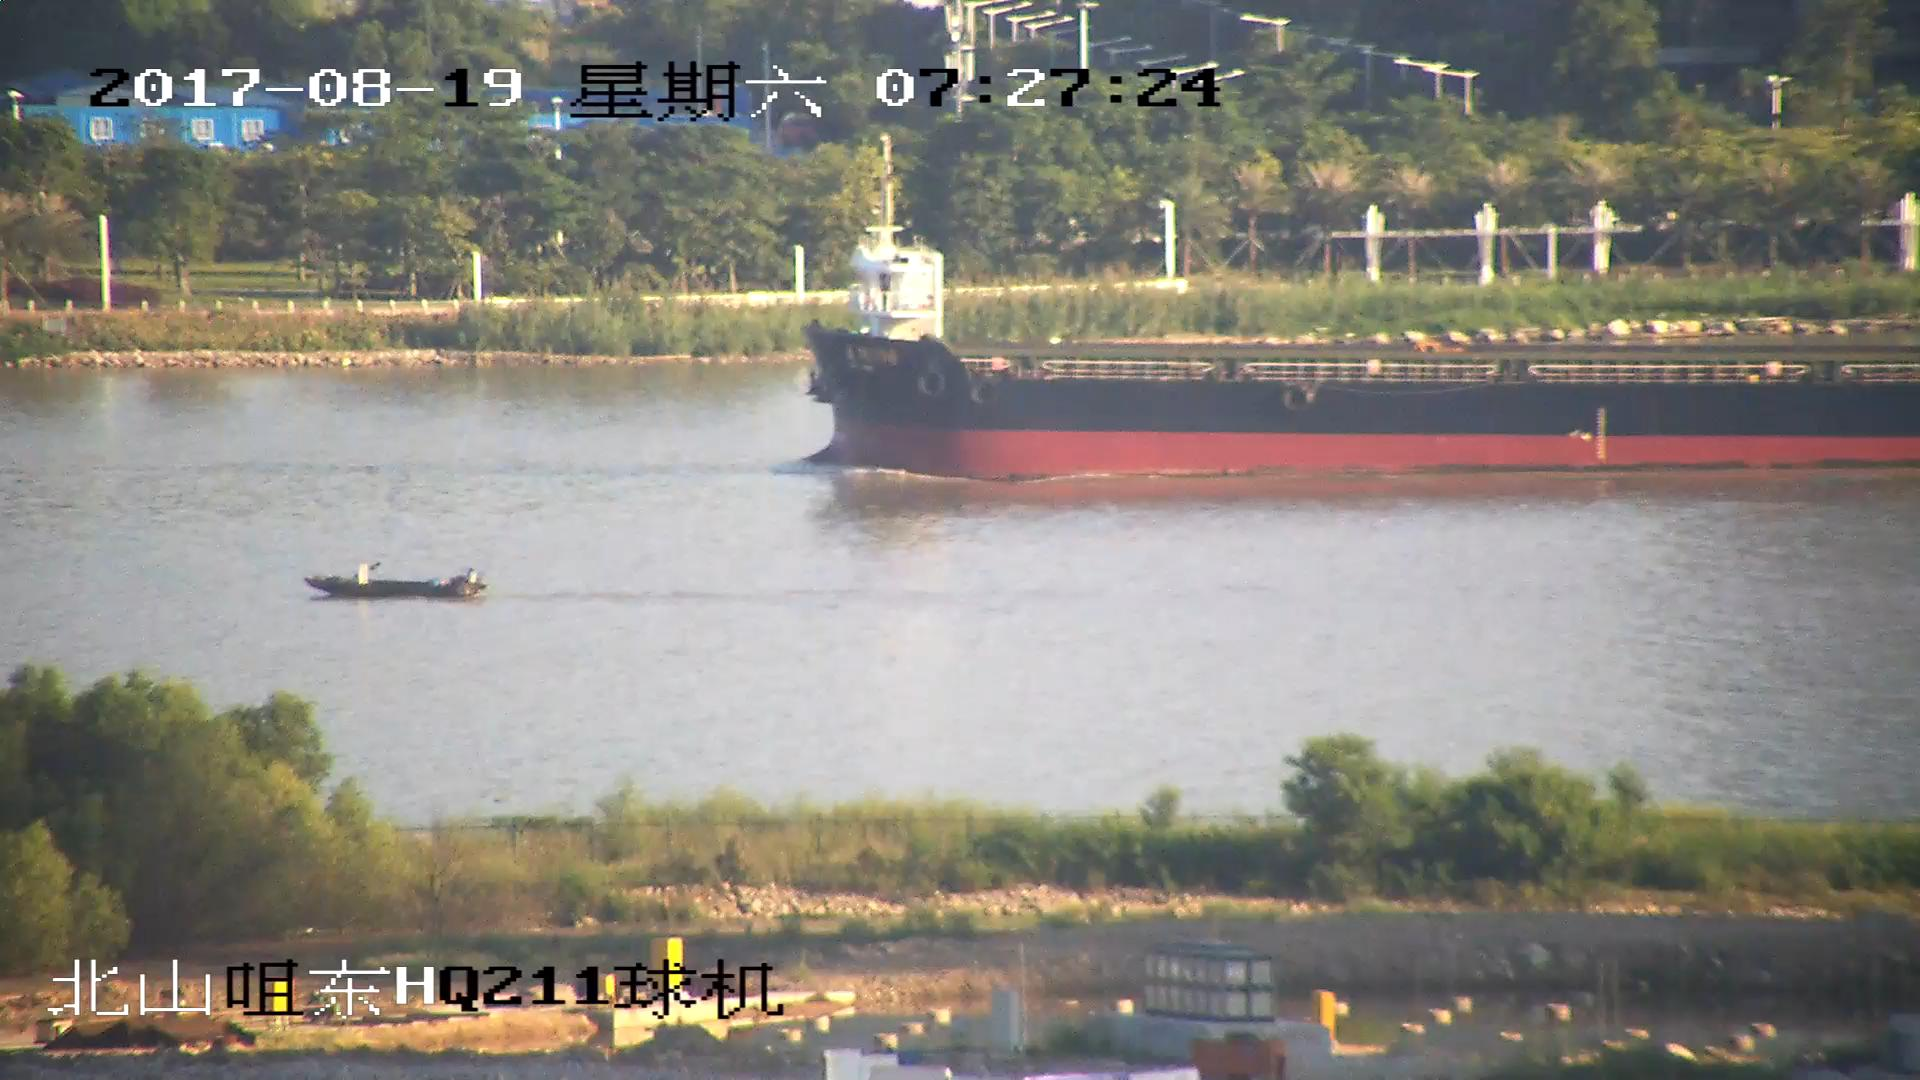fishing boat: (307, 564, 481, 608)
general cargo ship: (799, 220, 1920, 480)
